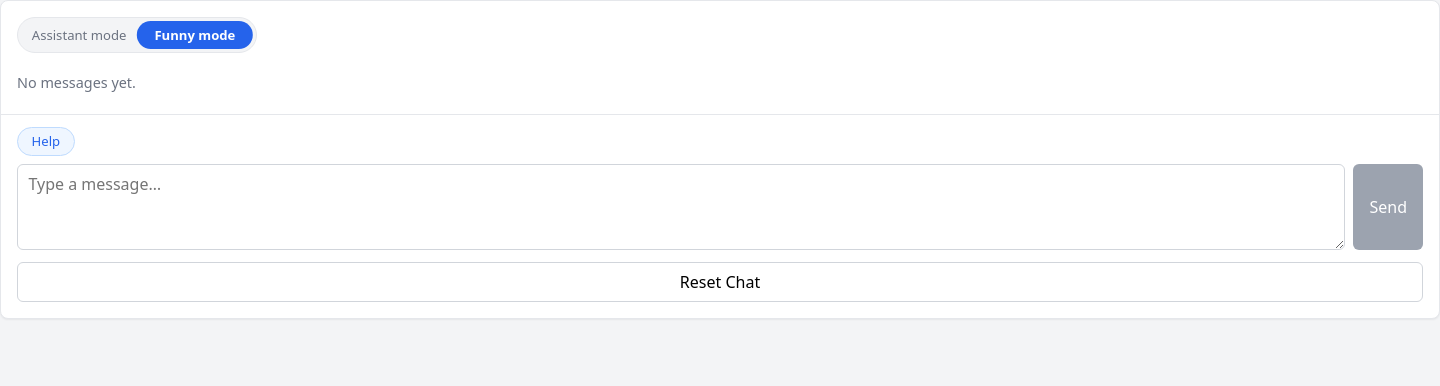
Test case: ChatWindow reset behavior › clears the on-screen thread when resetChat() succeeds
The image size is (1440, 386).
Type "Bananas are great" into the text box with test id "chat-input" showing "Type a message…". click: (681, 207)
box: x1=17 y1=164 x2=1346 y2=250
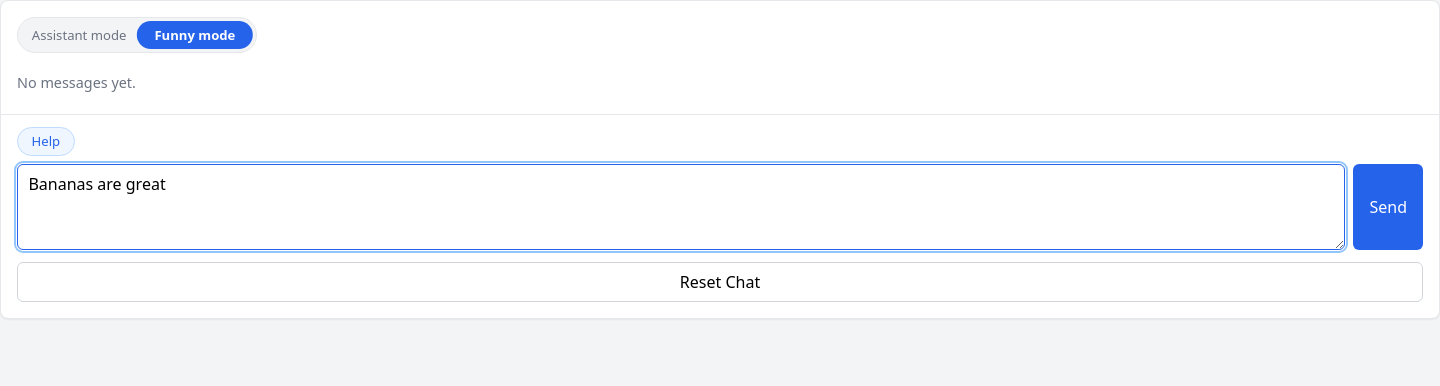
Click the button with test id "send-button". click: click(1388, 207)
box: x1=1354 y1=164 x2=1423 y2=250
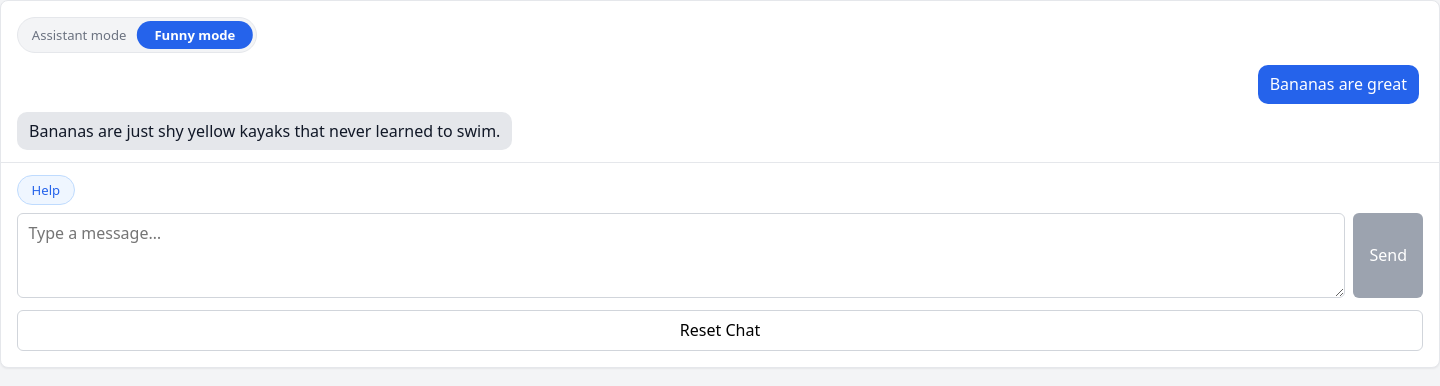
Expected: the element with test id "message-assistant" is shown, x1=17 y1=112 x2=512 y2=150
Click the button with test id "reset-button". click: click(720, 330)
box: x1=17 y1=310 x2=1423 y2=351
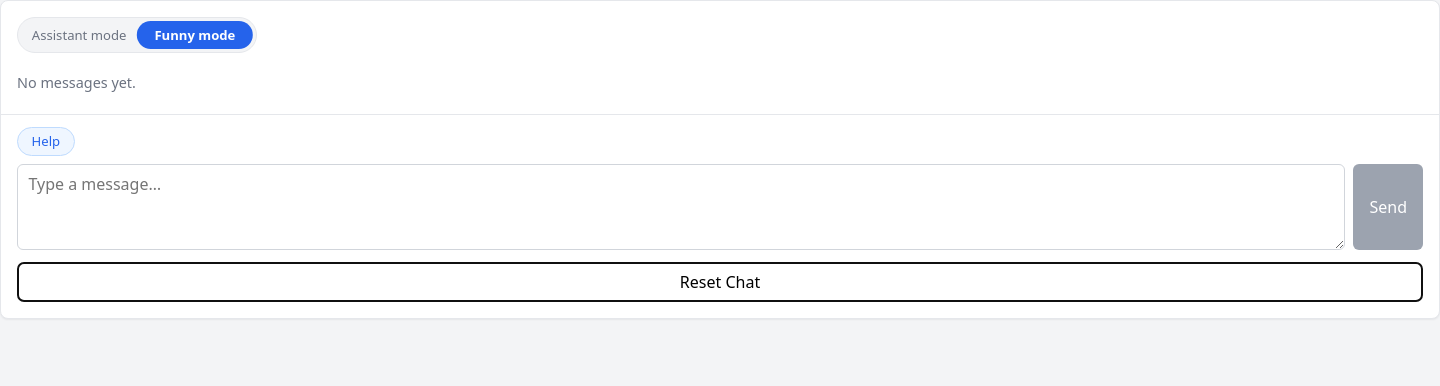
Expected: the element with test id "message-user" is gone
Expected: the element with test id "message-assistant" is gone
Expected: the text "No messages yet." is shown, x1=17 y1=73 x2=136 y2=92
